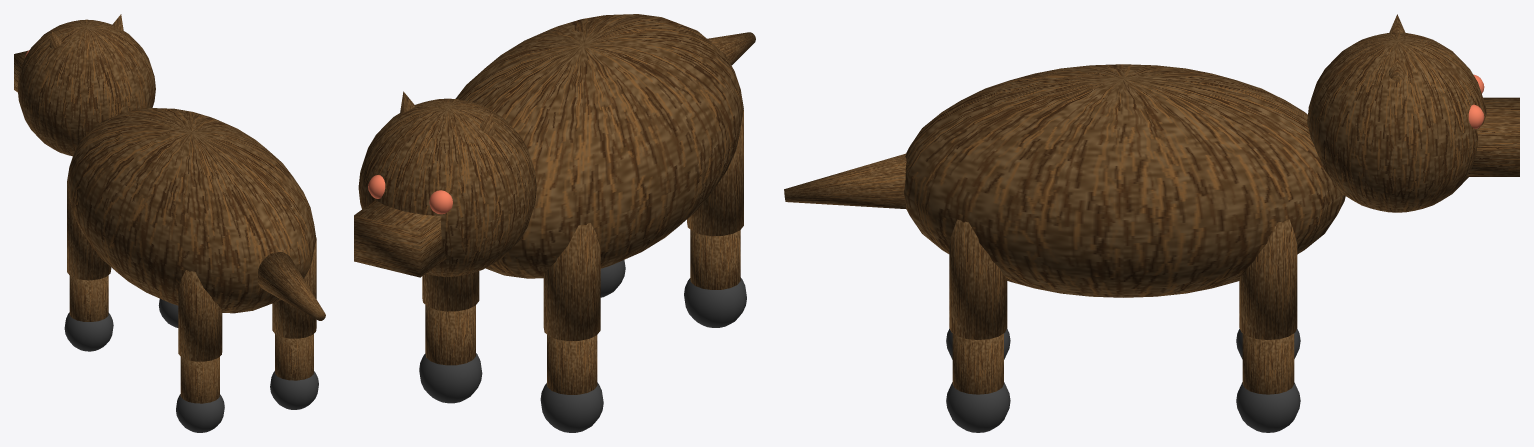
File: nemean-lion.glb
3 views of the same model, side by side, from view 1: azimuth 30°, elevation 25°; view 2: azimuth 150°, elevation 25°; view 3: azimuth 270°, elevation 25° (orthographic). The views are drawn at different scales.
Visible parts, largest first — view 1: Body, Head, LegUpper, Tail, LegUpper.001, LegLower, LegUpper.002, LegLower.001, LegLower.002, Paw.001, Paw, Paw.002 (+1 smaller); view 2: Body, Head, LegUpper.001, Snout, LegUpper, LegLower.003, LegLower, LegLower.001, Paw.003, Paw, Paw.001, LegUpper.003 (+3 smaller); view 3: Body, Head, LegUpper.003, LegUpper.002, Tail, Snout, LegLower.003, LegLower.002, Paw.002, Paw.003.
Part boxes in pixels (x1=…): Body: x1=67, y1=108, x2=316, y2=313; Head: x1=17, y1=19, x2=155, y2=156; LegUpper: x1=178, y1=270, x2=222, y2=361; Tail: x1=257, y1=252, x2=325, y2=320; LegUpper.001: x1=67, y1=182, x2=111, y2=280; LegLower: x1=180, y1=357, x2=219, y2=403; LegUpper.002: x1=272, y1=238, x2=316, y2=338; LegLower.001: x1=69, y1=275, x2=108, y2=321; LegLower.002: x1=275, y1=334, x2=313, y2=380; Paw.001: x1=64, y1=312, x2=113, y2=351; Paw: x1=176, y1=394, x2=224, y2=432; Paw.002: x1=270, y1=371, x2=318, y2=409; Body: x1=455, y1=14, x2=743, y2=278; Head: x1=358, y1=98, x2=536, y2=276; LegUpper.001: x1=543, y1=223, x2=600, y2=340; Snout: x1=354, y1=200, x2=446, y2=277; LegUpper: x1=687, y1=110, x2=743, y2=236; LegLower.003: x1=425, y1=305, x2=475, y2=365; LegLower: x1=690, y1=230, x2=740, y2=289; LegLower.001: x1=547, y1=335, x2=597, y2=394; Paw.003: x1=419, y1=353, x2=482, y2=403; Paw: x1=684, y1=277, x2=746, y2=327; Paw.001: x1=540, y1=382, x2=603, y2=432; LegUpper.003: x1=422, y1=271, x2=479, y2=311; Body: x1=903, y1=64, x2=1345, y2=297; Head: x1=1307, y1=32, x2=1486, y2=212; LegUpper.003: x1=1239, y1=219, x2=1297, y2=339; LegUpper.002: x1=949, y1=219, x2=1007, y2=339; Tail: x1=784, y1=153, x2=906, y2=208; Snout: x1=1467, y1=97, x2=1519, y2=176; LegLower.003: x1=1242, y1=333, x2=1294, y2=394; LegLower.002: x1=952, y1=333, x2=1003, y2=394; Paw.002: x1=946, y1=382, x2=1010, y2=432; Paw.003: x1=1236, y1=382, x2=1300, y2=432.
Size of the model in its own units: 0.6642 by 0.986 by 1.8.
3 materials, 1 textured.
